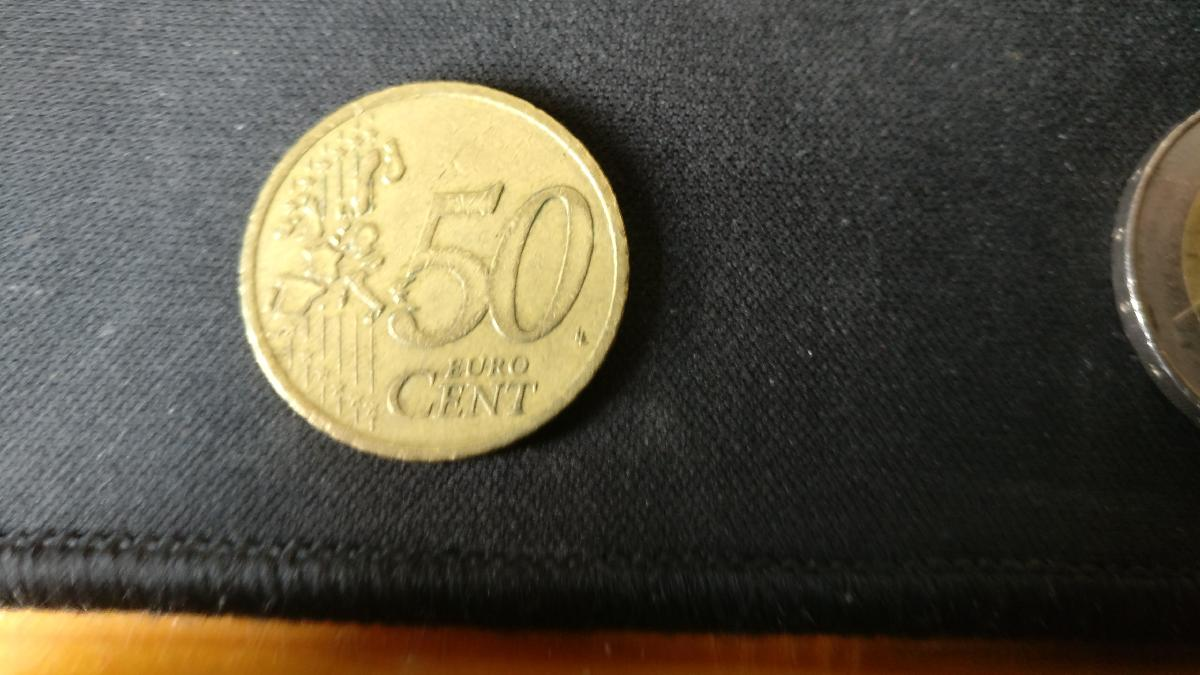Fifty Cent: (242, 70, 635, 448)
Two Euro: (1113, 102, 1200, 422)
